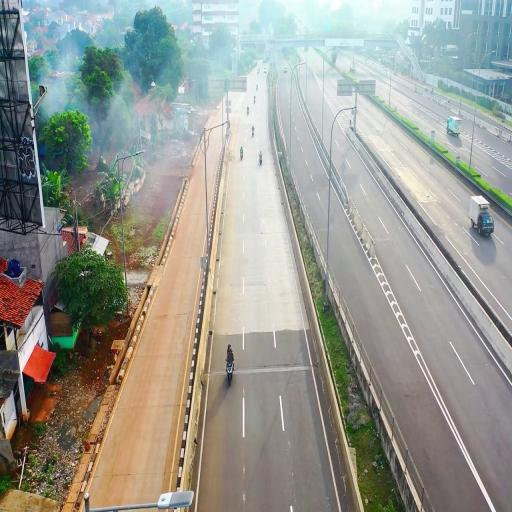vehicle: (468, 196, 494, 236), (469, 196, 494, 236), (477, 206, 494, 236)
